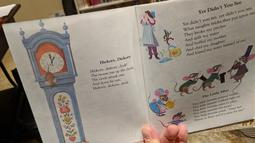text block: (177, 1, 255, 60), (187, 89, 249, 123), (87, 52, 136, 90)
